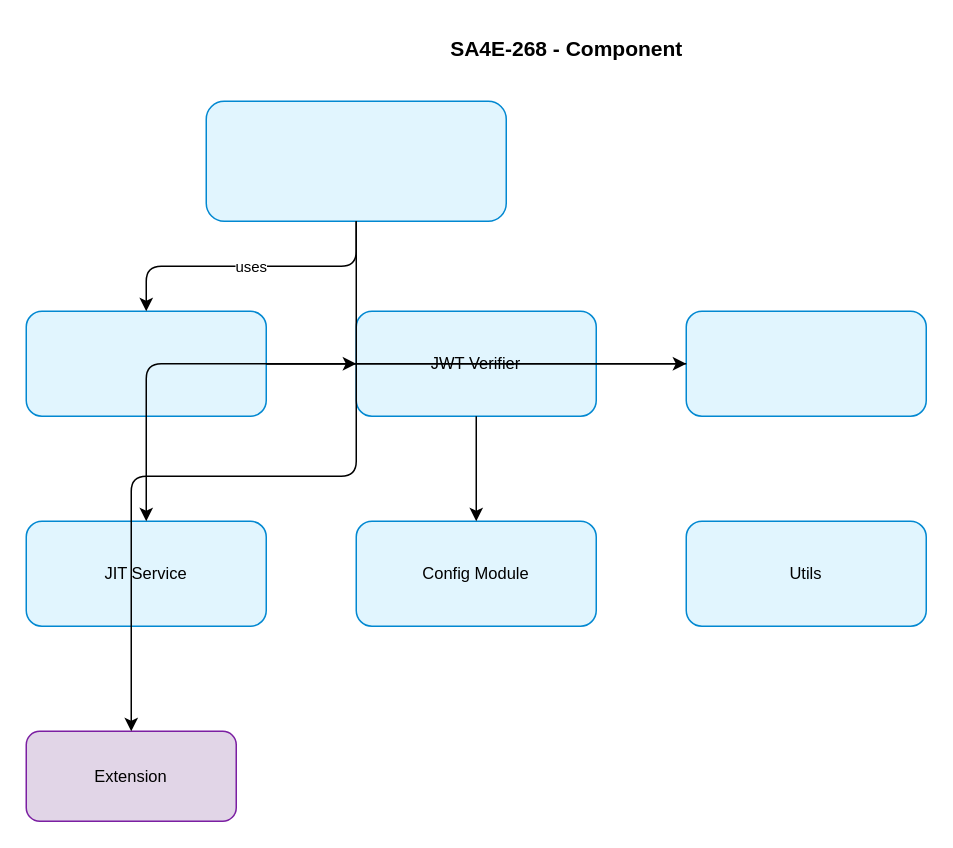
This 953x848 diagram has some shape labels left out. The centre of each missing label's shape, as x and y in pixels:
Application: (x=355, y=160)
Auth Middleware: (x=145, y=363)
PKCE Handler: (x=805, y=363)
